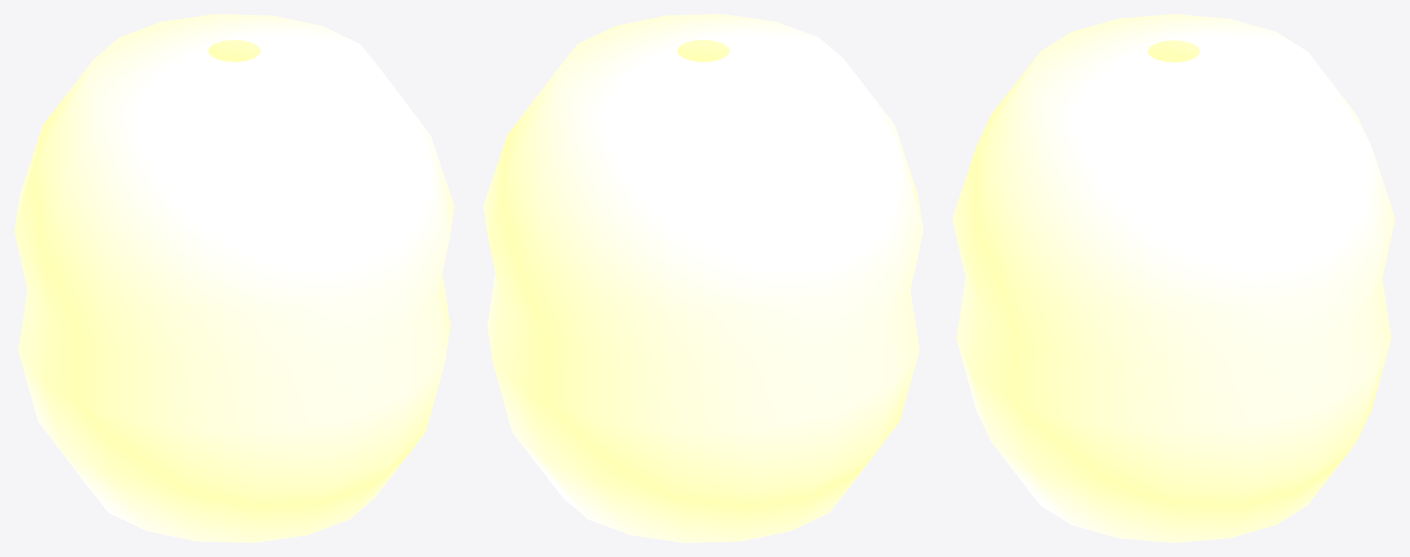
Rendered from lantern_unit.glb.
The picture shows the model from 3 angles, left to right: view 1: azimuth 30°, elevation 25°; view 2: azimuth 150°, elevation 25°; view 3: azimuth 270°, elevation 25°; orthographic projection.
Visible parts, largest first — view 1: UnifiedLanternGlobe; view 2: UnifiedLanternGlobe; view 3: UnifiedLanternGlobe.
Part boxes in pixels (box(x1,y1,x2,y2)): UnifiedLanternGlobe: box(14, 14, 454, 542); UnifiedLanternGlobe: box(483, 14, 923, 542); UnifiedLanternGlobe: box(952, 14, 1395, 542).
Size of the model in its own units: 0.336 by 0.38 by 0.336.
